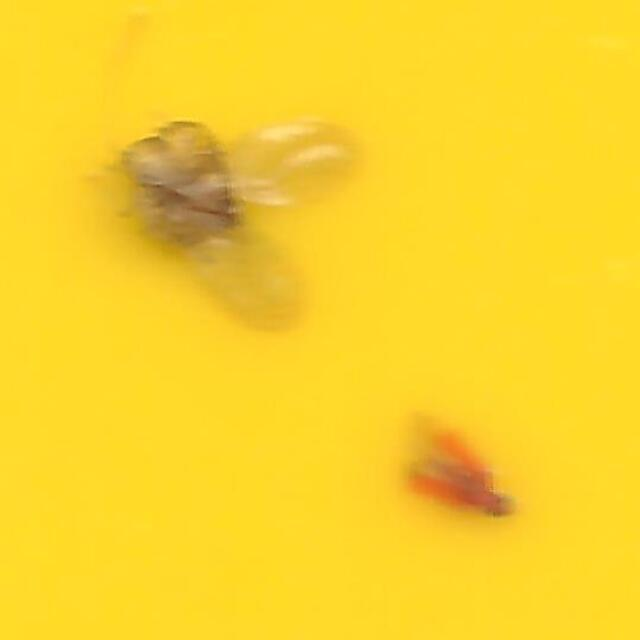Hemiptera: (394, 410, 522, 525)
Hymenoptera: (118, 115, 363, 338)
